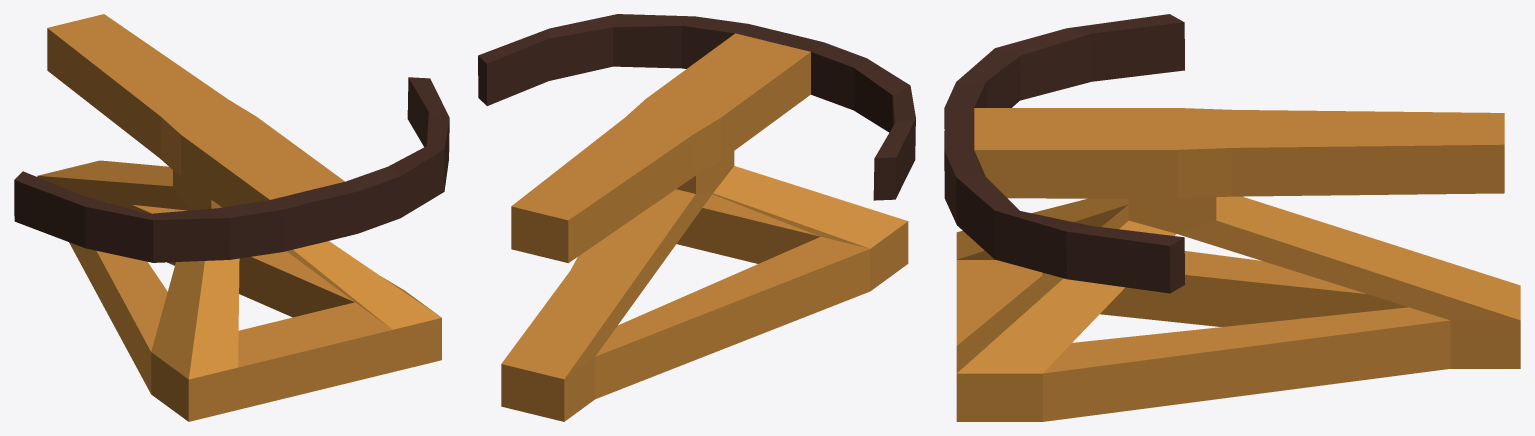
The model's file is scorpio.glb.
3 views of the same model, side by side, from view 1: azimuth 30°, elevation 25°; view 2: azimuth 150°, elevation 25°; view 3: azimuth 270°, elevation 25° (orthographic). The views are drawn at different scales.
Parts seen in each view (by area): view 1: Scorpio1, Scorpio0; view 2: Scorpio0, Scorpio1; view 3: Scorpio0, Scorpio1.
Boxes of the visible parts, x1,y1,x2,y2 form: Scorpio1: [14, 14, 449, 262]; Scorpio0: [37, 160, 441, 421]; Scorpio0: [501, 151, 908, 421]; Scorpio1: [478, 14, 915, 263]; Scorpio0: [956, 196, 1520, 421]; Scorpio1: [944, 14, 1504, 293].
Bounding box in the file's own units: 4.04 × 1.81 × 4.24.
